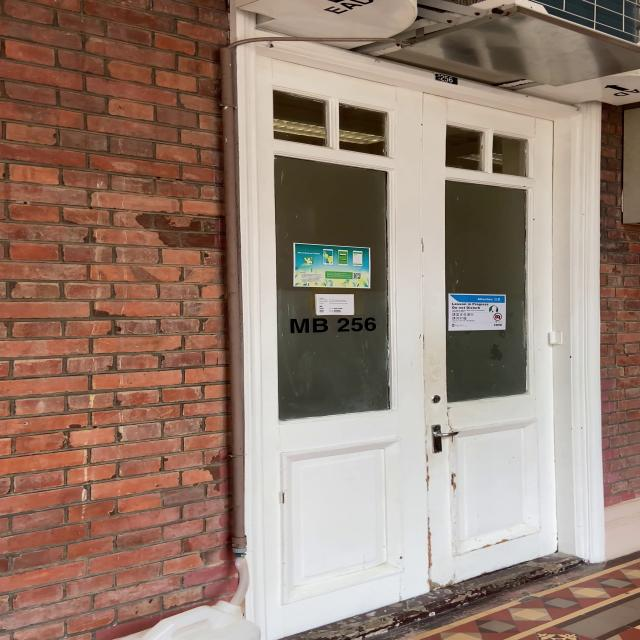room256: (432, 72, 462, 84)
room256Window: (284, 315, 380, 336)
